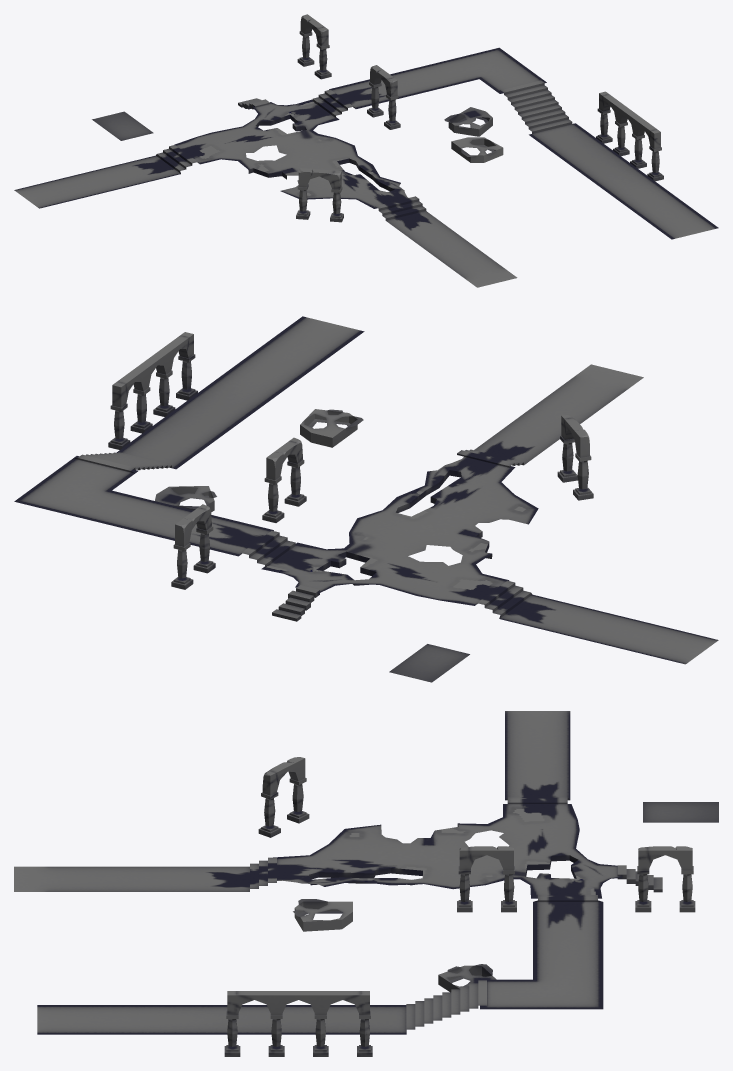
File: Ground_02.FBX
3 renders of one model, top to bottom at view 1: azimuth 30°, elevation 25°; view 2: azimuth 150°, elevation 25°; view 3: azimuth 270°, elevation 25°, orthographic. The views are drawn at different scales.
Parts seen in each view (by area): view 1: Ground_02; view 2: Ground_02; view 3: Ground_02.
Boxes of the visible parts, box(x1,y1,x2,y2) form: Ground_02: box(14, 14, 718, 287); Ground_02: box(14, 316, 718, 682); Ground_02: box(14, 711, 718, 1056).
Bounding box in the file's own units: 50.54 × 7.01 × 46.43.
